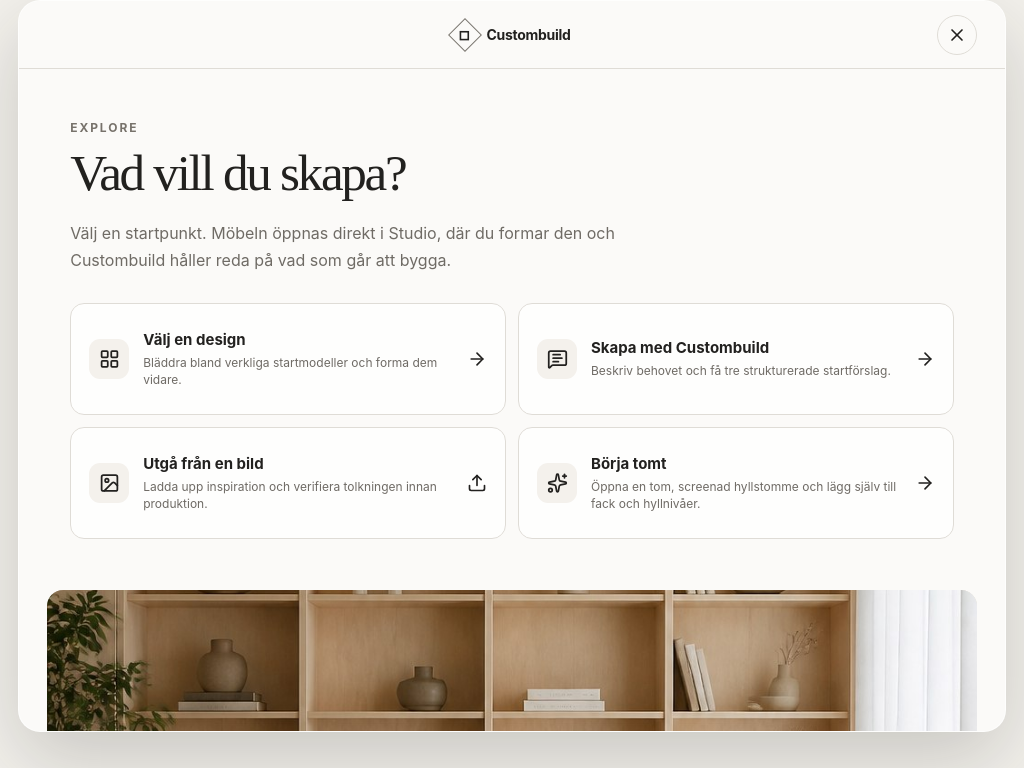
it: TemplatePicker Explore entry › rejects dimensions below the server's whole-micrometre resolution
Step 1. Click the button "Skapa med Custombuild" → click(736, 359), box [518, 303, 954, 415]
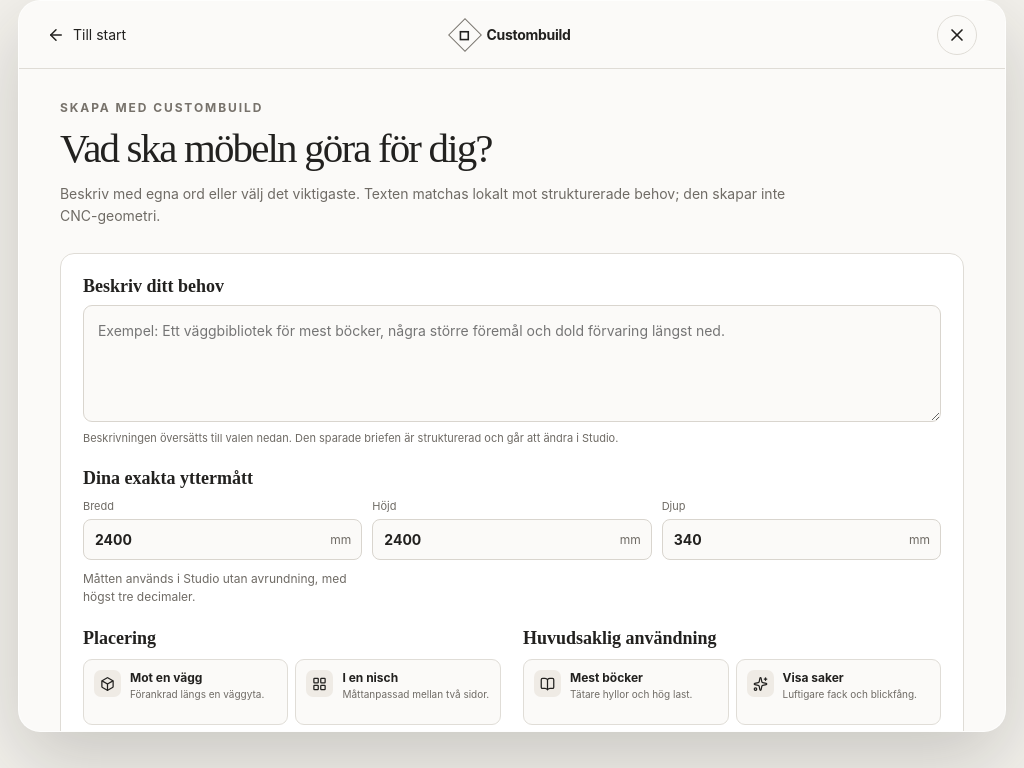
Step 2. Replace the text in the number field named "Planerad djup" with "397.1255" → (786, 540), box [663, 520, 909, 559]
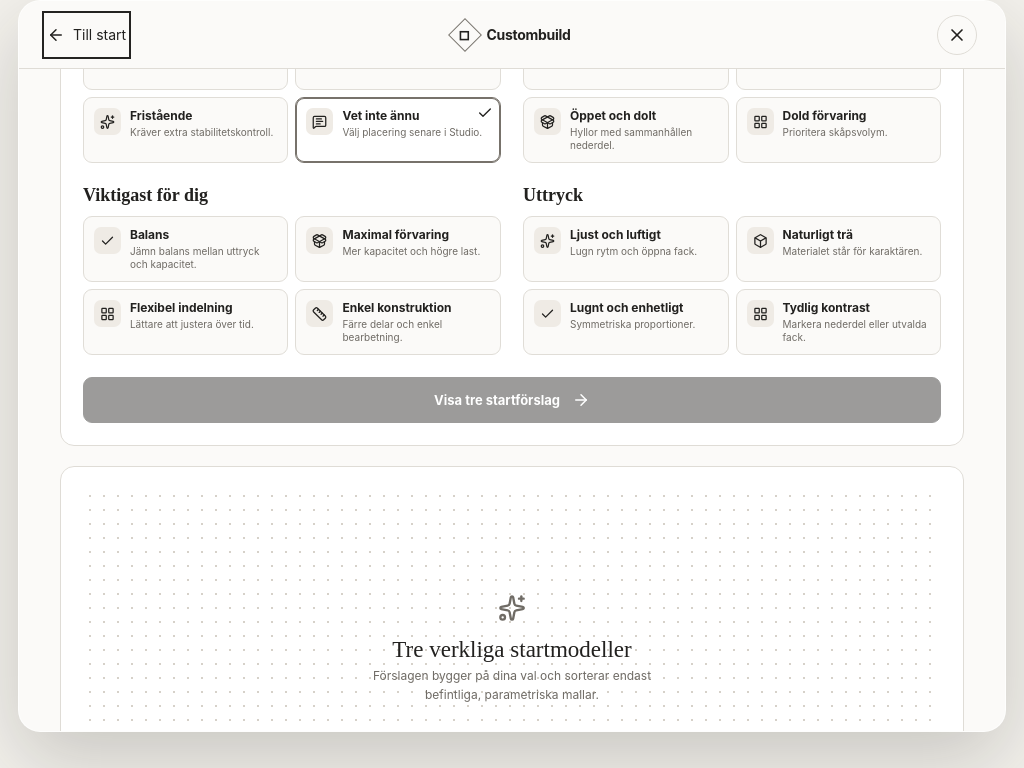
Check: the button "Visa tre startförslag" is disabled, box [83, 378, 941, 424]
